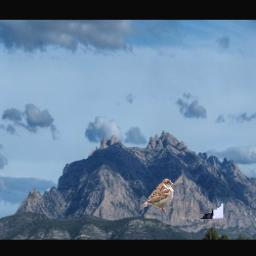Crow: (186, 133, 223, 219)
Sparrow: (140, 179, 175, 211)
